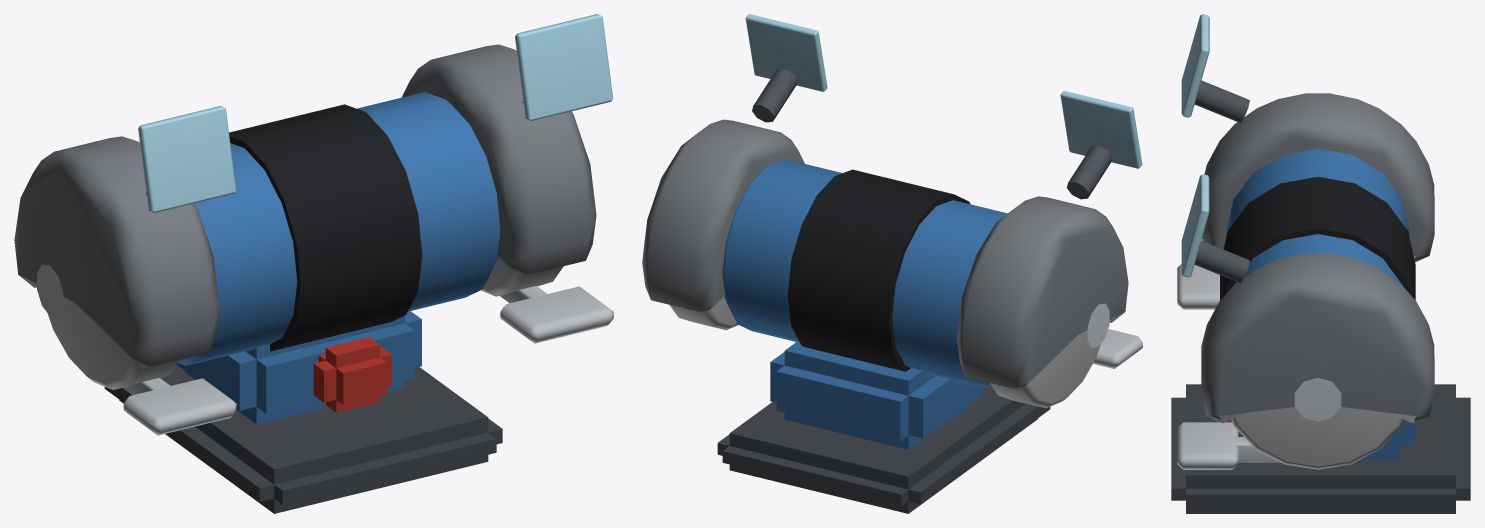
File: SM_BenchGrinder_01.glb
3 views of the same model, side by side, from view 1: azimuth 30°, elevation 25°; view 2: azimuth 150°, elevation 25°; view 3: azimuth 270°, elevation 25° (orthographic). The views are drawn at different scales.
Parts seen in each view (by area): view 1: SM_BenchGrinder_01; view 2: SM_BenchGrinder_01; view 3: SM_BenchGrinder_01.
Boxes of the visible parts, x1,y1,x2,y2 form: SM_BenchGrinder_01: (14,14,613,513); SM_BenchGrinder_01: (642,14,1142,513); SM_BenchGrinder_01: (1171,14,1470,513).
Bounding box in the file's own units: 0.42 × 0.3225 × 0.245.
Materials: 1 (1 with a texture image).
